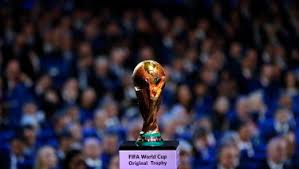trophy: (120, 57, 175, 149)
